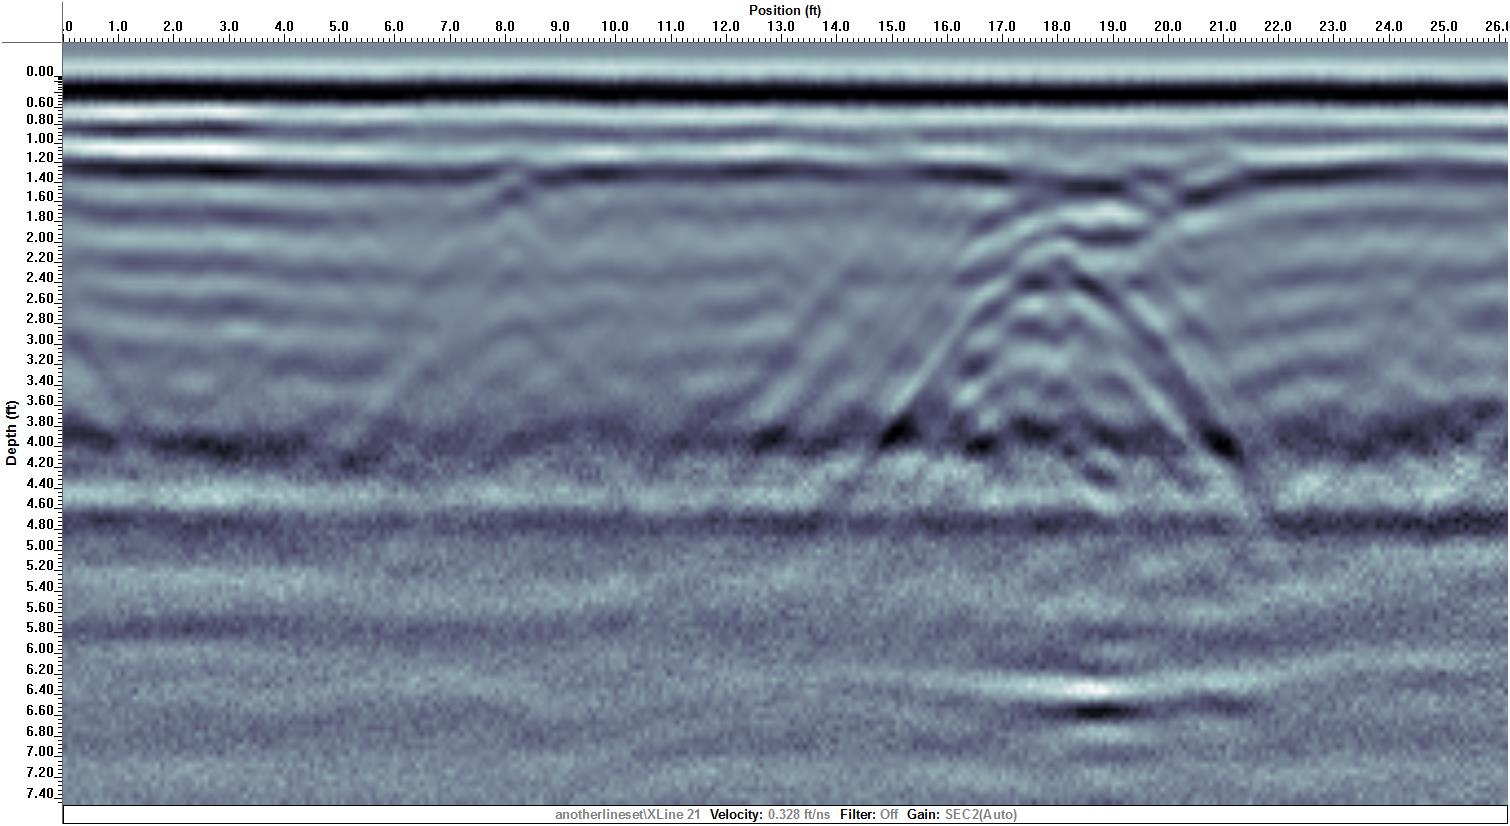hyperbola: (841, 212, 1239, 466)
